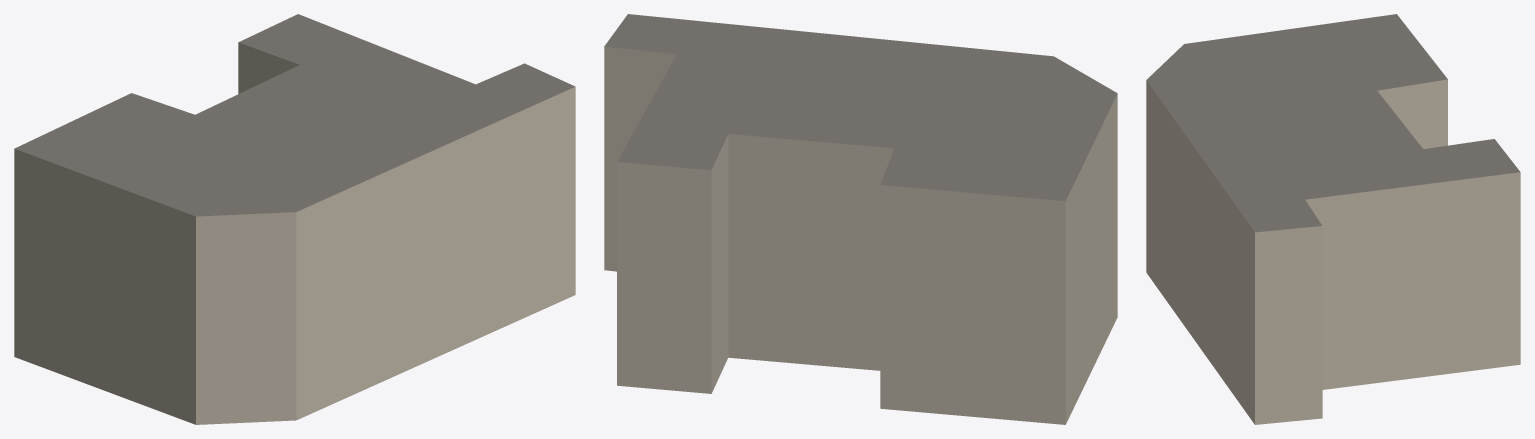
The picture shows the model from 3 angles, left to right: view 1: azimuth 30°, elevation 25°; view 2: azimuth 150°, elevation 25°; view 3: azimuth 270°, elevation 25°; orthographic projection. The views are drawn at different scales.
Visible parts, largest first — view 1: HP-w495105529; view 2: HP-w495105529; view 3: HP-w495105529.
Part boxes in pixels (x1,y1,x2,y2): HP-w495105529: (14, 14, 575, 424); HP-w495105529: (604, 14, 1117, 424); HP-w495105529: (1146, 14, 1520, 424).
Size of the model in its own units: 43.79 by 18 by 31.71.
